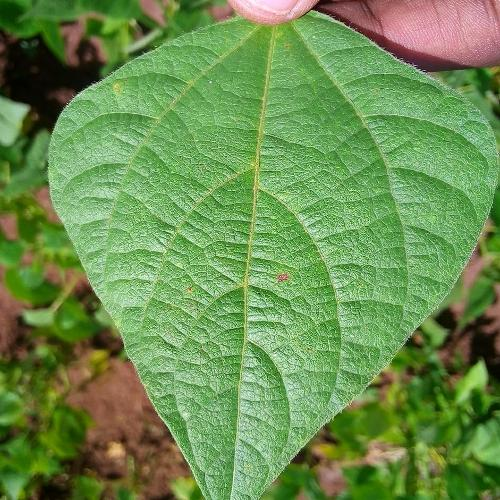sehat: (62, 34, 432, 416)
